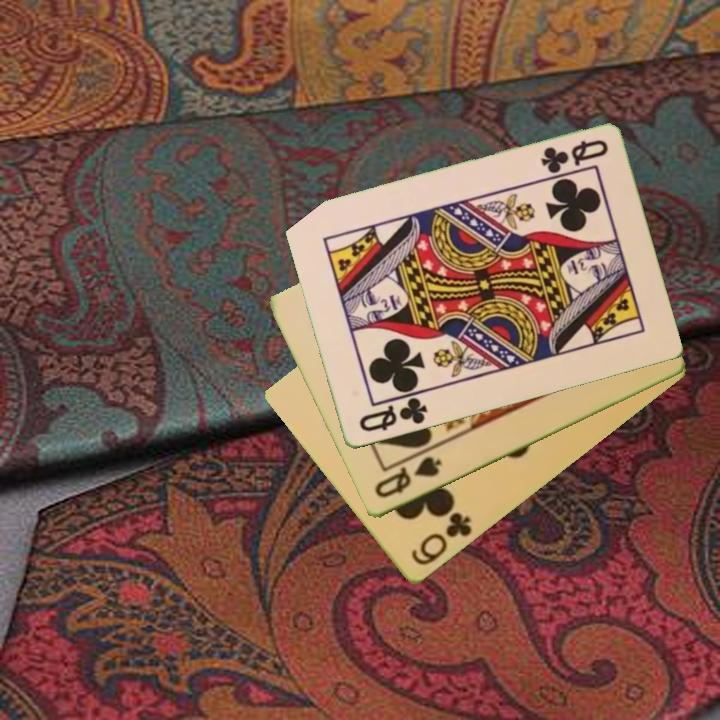6c: (407, 509, 475, 569)
Qc: (355, 394, 431, 436), (536, 136, 611, 177)
Qs: (371, 453, 445, 502)
